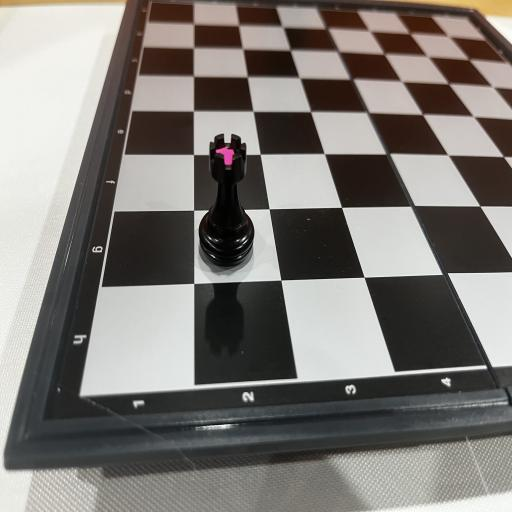Black rook: (198, 132, 255, 270)
